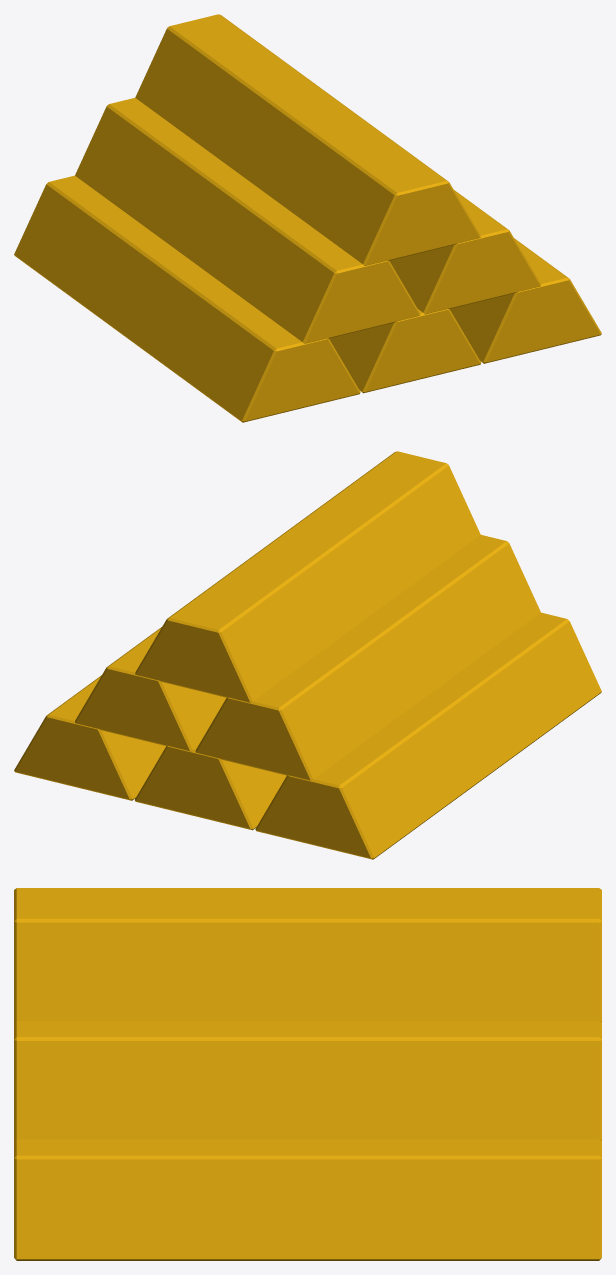
Rendered from Goldingots.fbx.
3 renders of one model, top to bottom at view 1: azimuth 30°, elevation 25°; view 2: azimuth 150°, elevation 25°; view 3: azimuth 270°, elevation 25°, orthographic. The views are drawn at different scales.
Parts seen in each view (by area): view 1: Gold ingots; view 2: Gold ingots; view 3: Gold ingots.
Boxes of the visible parts, box(x1,y1,x2,y2) form: Gold ingots: box(14, 14, 601, 422); Gold ingots: box(14, 451, 601, 859); Gold ingots: box(14, 888, 601, 1260).
Bounding box in the file's own units: 597 × 304 × 660.
